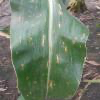Corn leaf blight: (9, 0, 88, 99)
